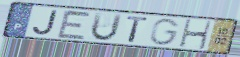E: (55, 8, 93, 41)
G: (149, 18, 182, 47)
H: (178, 19, 214, 51)
J: (31, 9, 60, 36)
T: (125, 15, 151, 44)
U: (89, 11, 124, 42)
